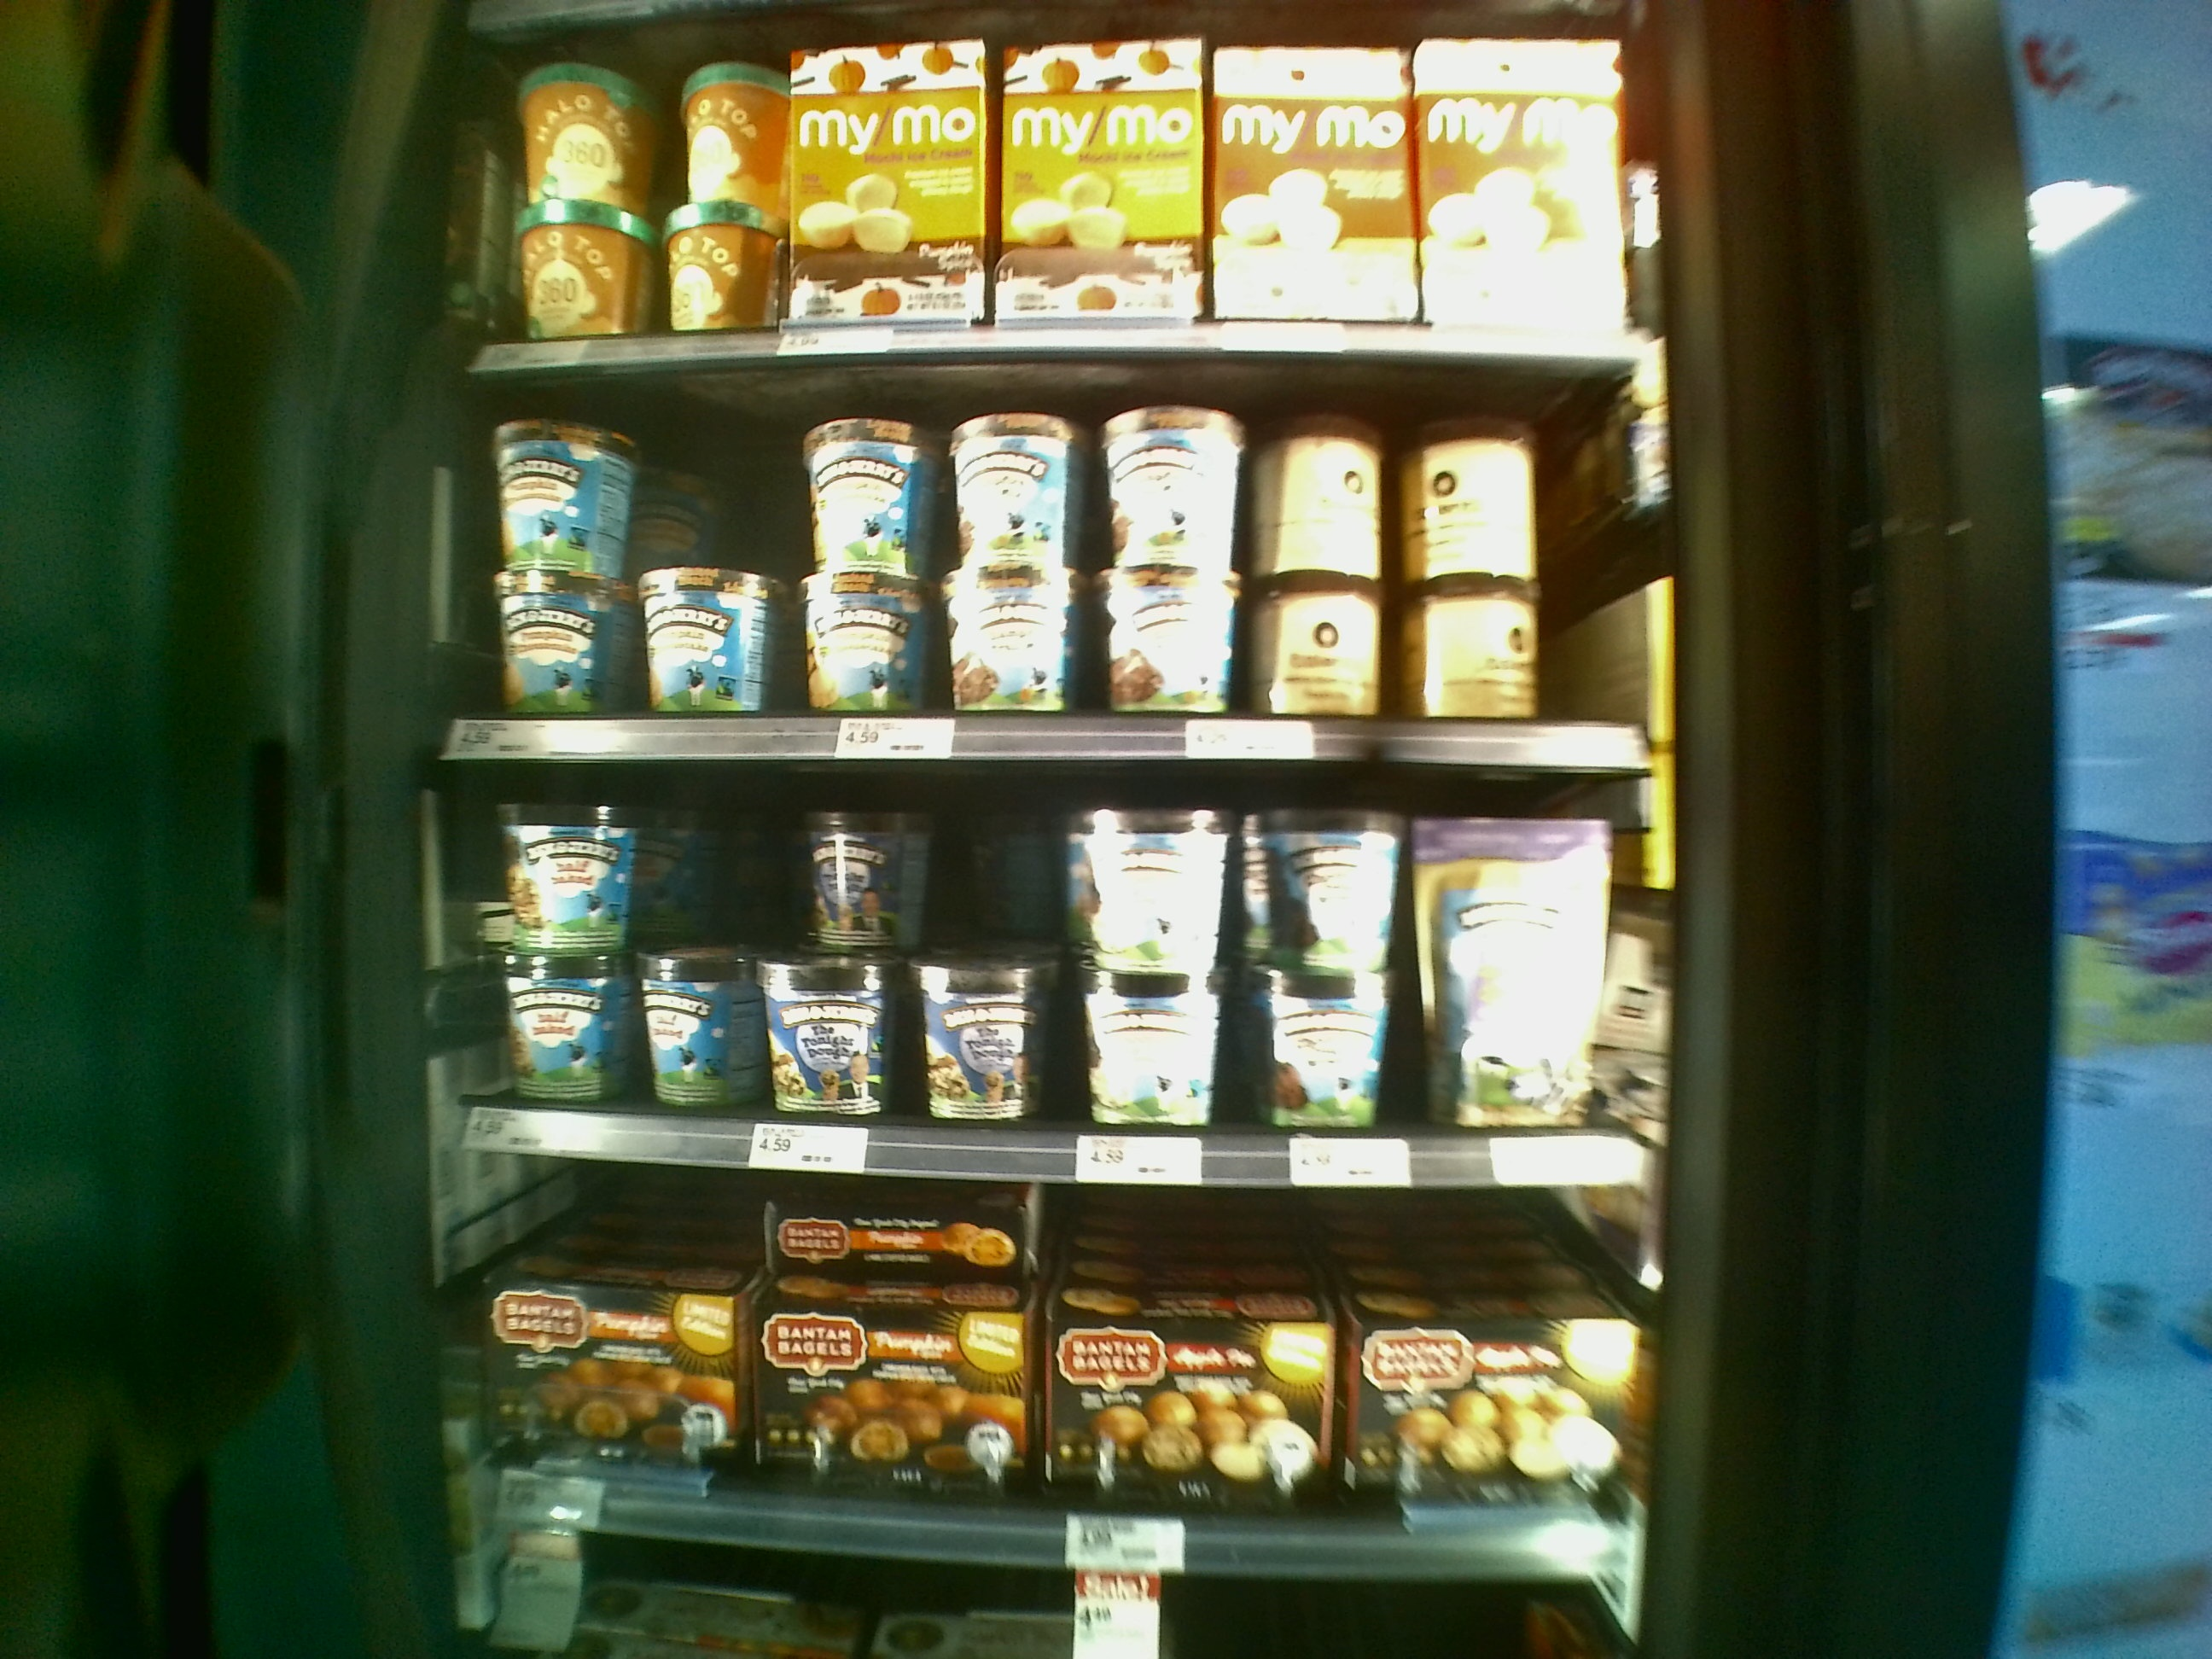shelf: (456, 711, 1644, 1202), (441, 1096, 1625, 1581), (467, 333, 1669, 763)
